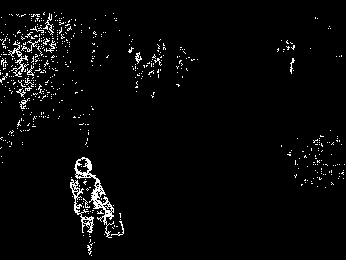person: (69, 155, 126, 260)
